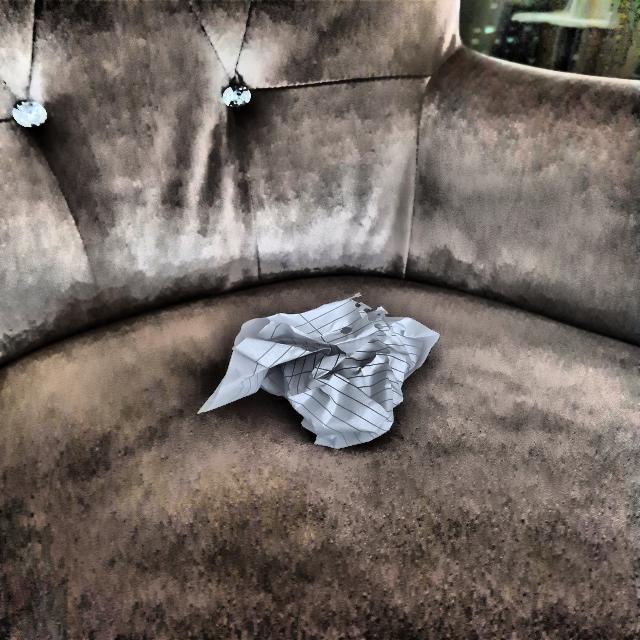Paper: (215, 292, 438, 450)
